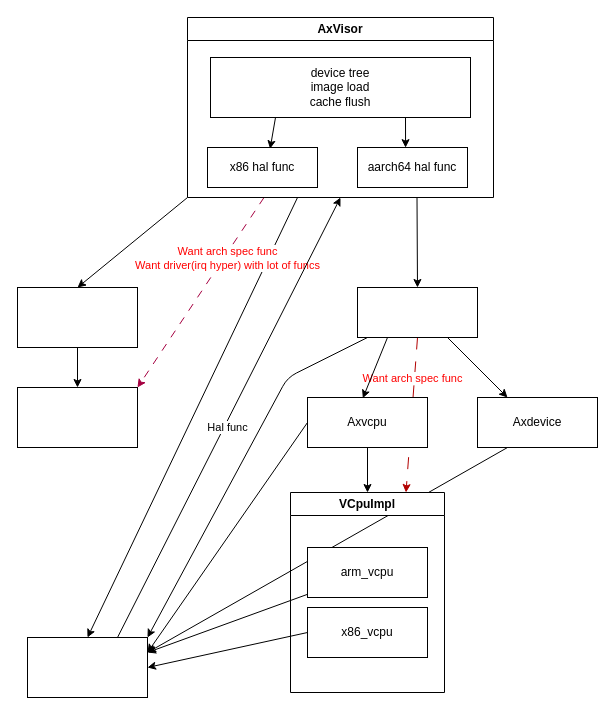
This 615x715 diagram has some shape labels left out. Here are the shapes that lost their labels. From the top down, the centre of each, then its label:
point 77,317: ArceOS
point 417,312: AxVm
point 77,417: AxplatImpl
point 87,667: axvisor-api (crate-interface )
